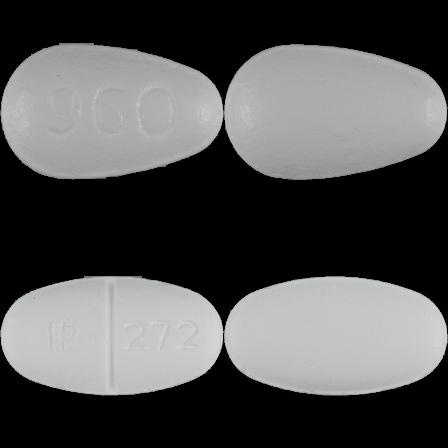55289-238: (0, 0, 224, 224)
